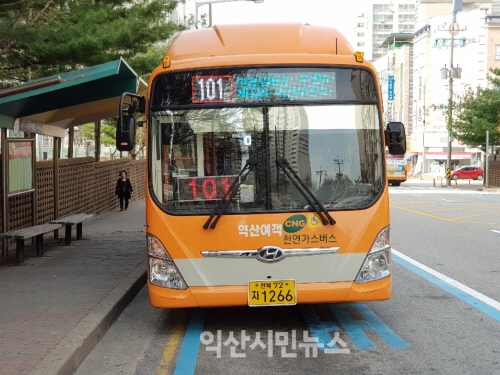bnum: (193, 77, 230, 101)
